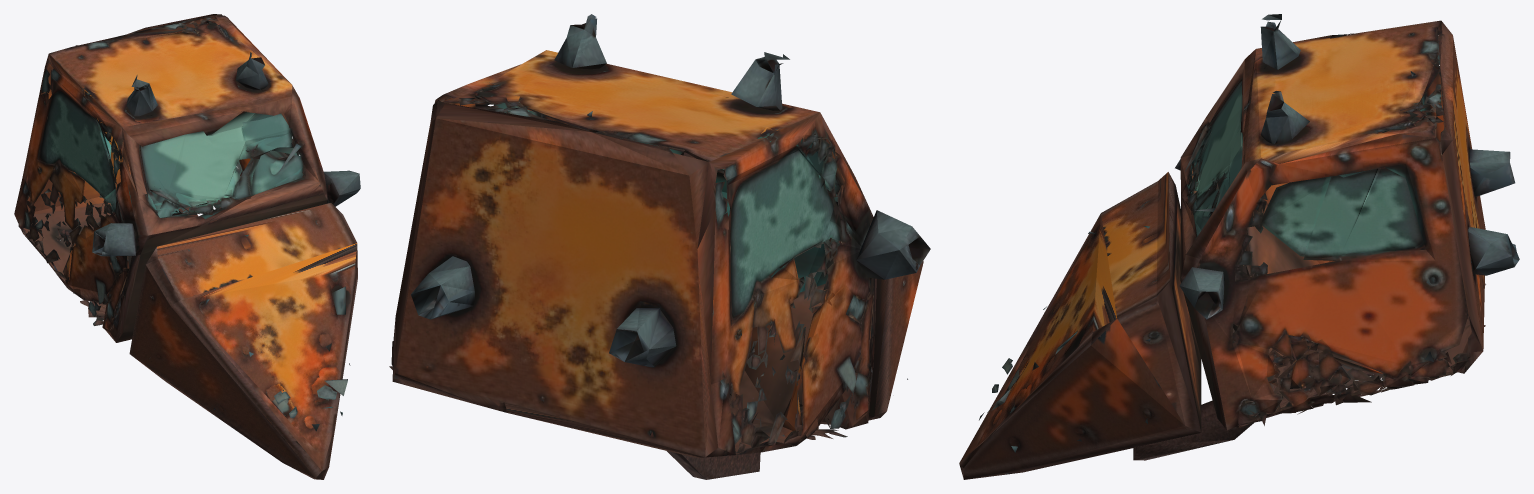
Rendered from nose_pointed.glb.
3 renders of one model, left to right at view 1: azimuth 30°, elevation 25°; view 2: azimuth 150°, elevation 25°; view 3: azimuth 270°, elevation 25°, orthographic. The views are drawn at different scales.
Visible parts, largest first — view 1: tripo_node_87adafcd; view 2: tripo_node_87adafcd; view 3: tripo_node_87adafcd.
Part boxes in pixels (<box>): tripo_node_87adafcd: <box>14,14,360,479</box>; tripo_node_87adafcd: <box>389,14,930,479</box>; tripo_node_87adafcd: <box>959,14,1519,479</box>.
Bounding box in the file's own units: 0.672 × 0.8146 × 0.9678.
Materials: 1 (1 with a texture image).
